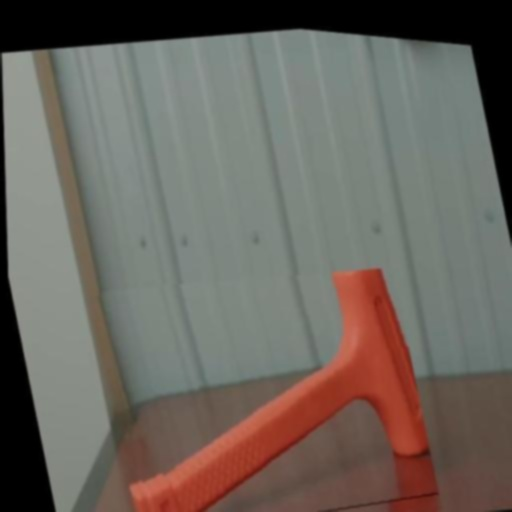mallet: (138, 261, 426, 512)
